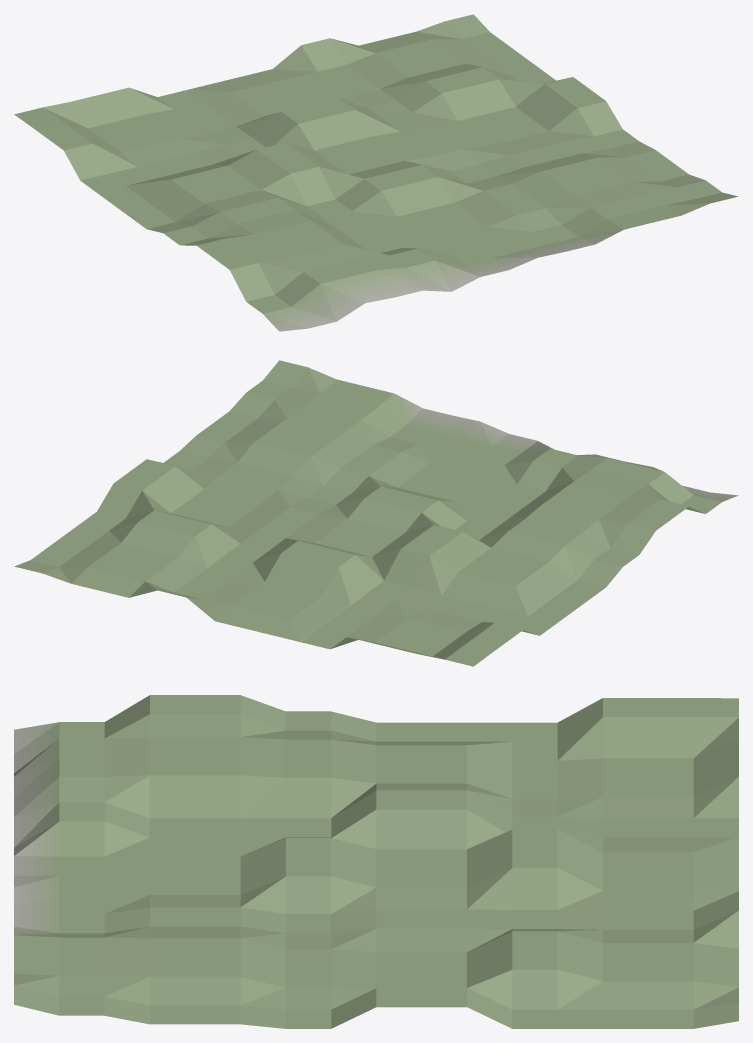
3 views of the same model, one above another, from view 1: azimuth 30°, elevation 25°; view 2: azimuth 150°, elevation 25°; view 3: azimuth 270°, elevation 25° (orthographic). The views are drawn at different scales.
Bounding box in the file's own units: 32 × 1.98 × 32.
